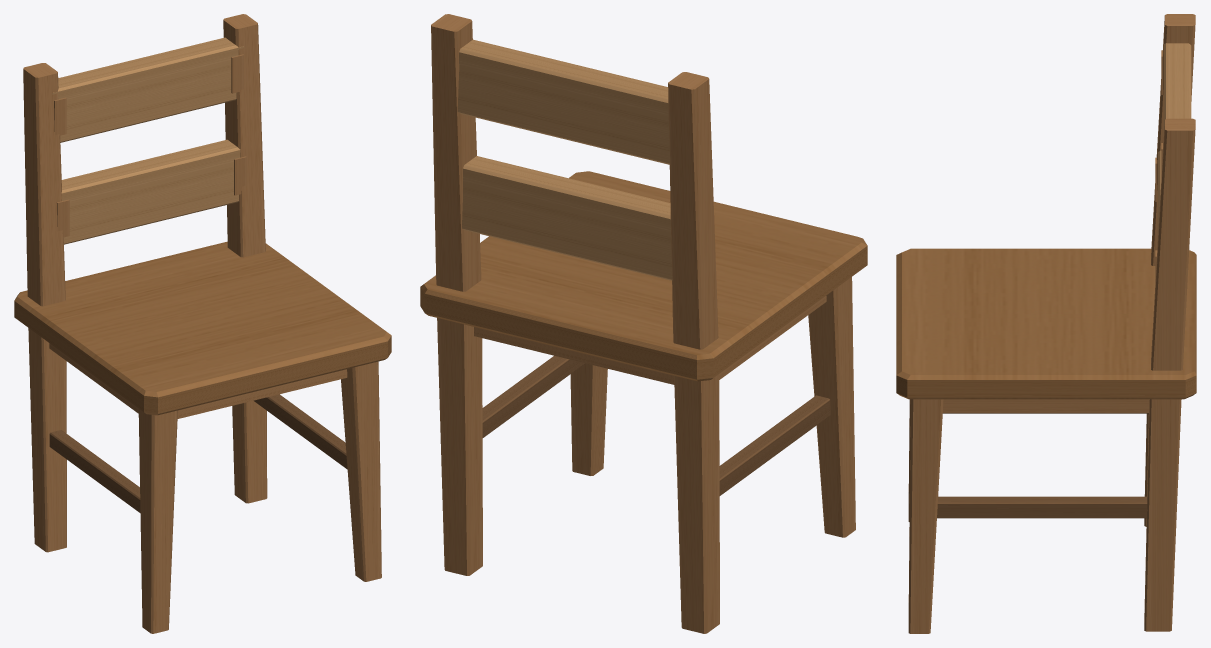
Rendered from dining_chair.glb.
3 renders of one model, left to right at view 1: azimuth 30°, elevation 25°; view 2: azimuth 150°, elevation 25°; view 3: azimuth 270°, elevation 25°, orthographic. The views are drawn at different scales.
Visible parts, largest first — view 1: home_dining_chair; view 2: home_dining_chair; view 3: home_dining_chair.
Boxes of the visible parts, x1=… form: home_dining_chair: x1=14, y1=14, x2=391, y2=633; home_dining_chair: x1=420, y1=14, x2=867, y2=633; home_dining_chair: x1=896, y1=14, x2=1196, y2=633.
Bounding box in the file's own units: 0.5 × 0.902 × 0.49.
1 material, 1 textured.
